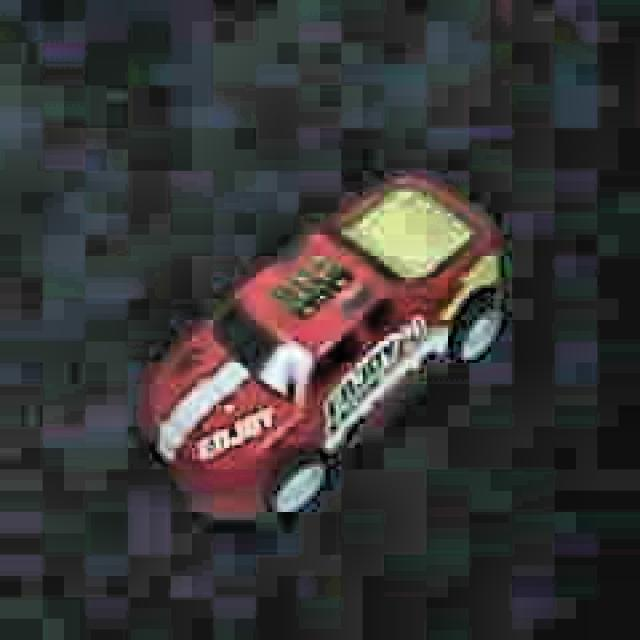car: (135, 165, 512, 527)
